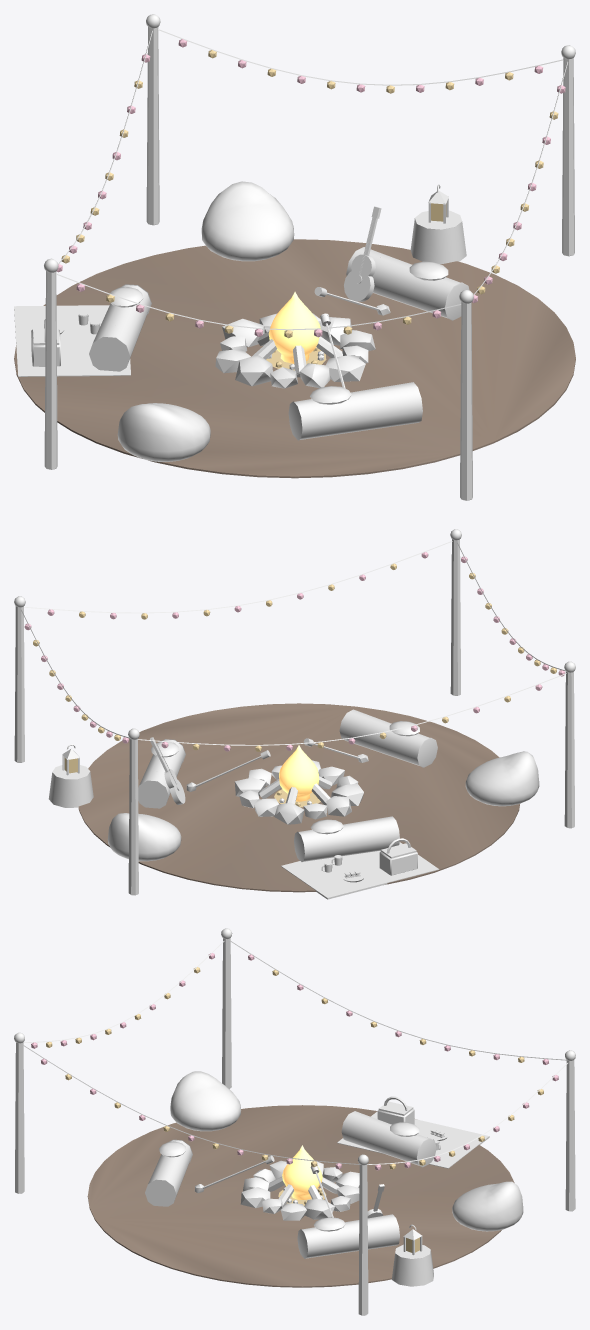
The model's file is zon_lake_chill.glb.
3 renders of one model, top to bottom at view 1: azimuth 30°, elevation 25°; view 2: azimuth 150°, elevation 25°; view 3: azimuth 270°, elevation 25°, orthographic. The views are drawn at different scales.
Parts seen in each view (by area): view 1: SM_zon_lake_chill_paths_stone_vc_xm1_zm1, SM_zon_lake_chill_kit_lake_xm1_zm1, SM_zon_lake_chill_glow_vc_xm1_zm1, INST_prp_lake_firepit_flame__0; view 2: SM_zon_lake_chill_paths_stone_vc_xm1_zm1, SM_zon_lake_chill_kit_lake_xm1_zm1, SM_zon_lake_chill_glow_vc_xm1_zm1, INST_prp_lake_firepit_flame__0; view 3: SM_zon_lake_chill_paths_stone_vc_xm1_zm1, SM_zon_lake_chill_kit_lake_xm1_zm1, SM_zon_lake_chill_glow_vc_xm1_zm1, INST_prp_lake_firepit_flame__0.
Part boxes in pixels (bbox=[...]): SM_zon_lake_chill_paths_stone_vc_xm1_zm1: bbox=[14, 239, 575, 478]; SM_zon_lake_chill_kit_lake_xm1_zm1: bbox=[14, 14, 575, 500]; SM_zon_lake_chill_glow_vc_xm1_zm1: bbox=[56, 39, 565, 370]; INST_prp_lake_firepit_flame__0: bbox=[268, 291, 320, 363]; SM_zon_lake_chill_paths_stone_vc_xm1_zm1: bbox=[78, 703, 519, 892]; SM_zon_lake_chill_kit_lake_xm1_zm1: bbox=[14, 529, 575, 899]; SM_zon_lake_chill_glow_vc_xm1_zm1: bbox=[24, 552, 565, 807]; INST_prp_lake_firepit_flame__0: bbox=[279, 745, 319, 801]; SM_zon_lake_chill_paths_stone_vc_xm1_zm1: bbox=[87, 1105, 514, 1287]; SM_zon_lake_chill_kit_lake_xm1_zm1: bbox=[14, 928, 575, 1315]; SM_zon_lake_chill_glow_vc_xm1_zm1: bbox=[31, 953, 558, 1252]; INST_prp_lake_firepit_flame__0: bbox=[282, 1145, 322, 1199].
Bounding box in the file's own units: 9.5 × 3.16 × 9.77.
